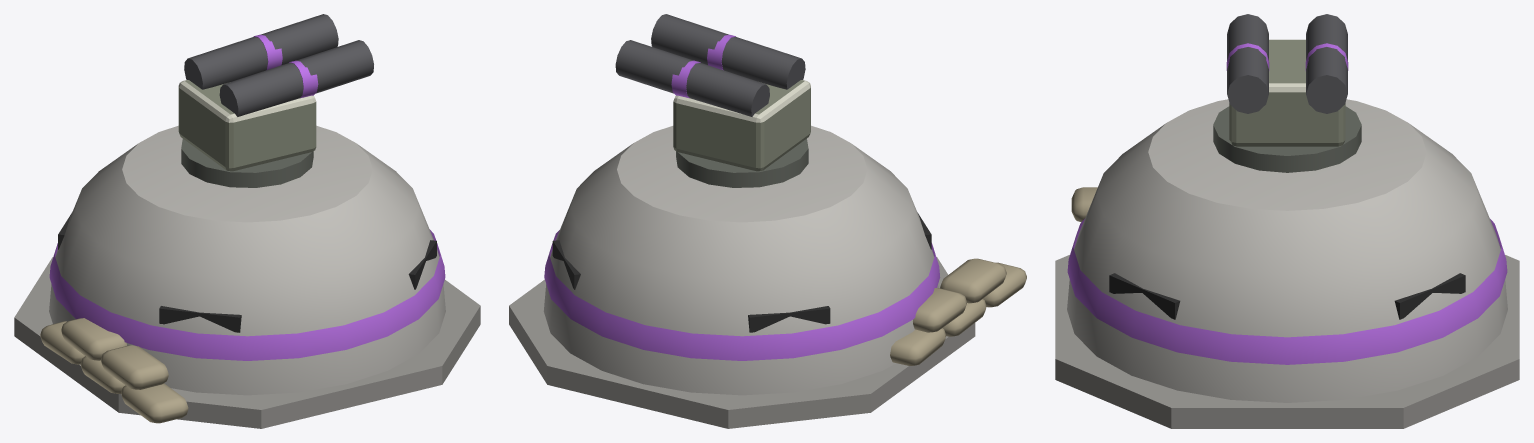
The model's file is rocket_bunker_purple.glb.
3 renders of one model, left to right at view 1: azimuth 30°, elevation 25°; view 2: azimuth 150°, elevation 25°; view 3: azimuth 270°, elevation 25°, orthographic. The views are drawn at different scales.
Parts seen in each view (by area): view 1: Body, Turret, Barrel; view 2: Body, Turret, Barrel; view 3: Body, Turret, Barrel.
Part boxes in pixels (bbox=[...]): Body: bbox=[14, 125, 480, 428]; Turret: bbox=[178, 80, 316, 187]; Barrel: bbox=[184, 14, 373, 116]; Body: bbox=[509, 125, 1026, 428]; Turret: bbox=[673, 80, 810, 187]; Barrel: bbox=[615, 14, 805, 116]; Body: bbox=[1055, 99, 1519, 428]; Turret: bbox=[1213, 39, 1361, 172]; Barrel: bbox=[1226, 14, 1348, 113].
Size of the model in its own units: 2.07 by 1.47 by 2.
Materials: 1 (1 with a texture image).
